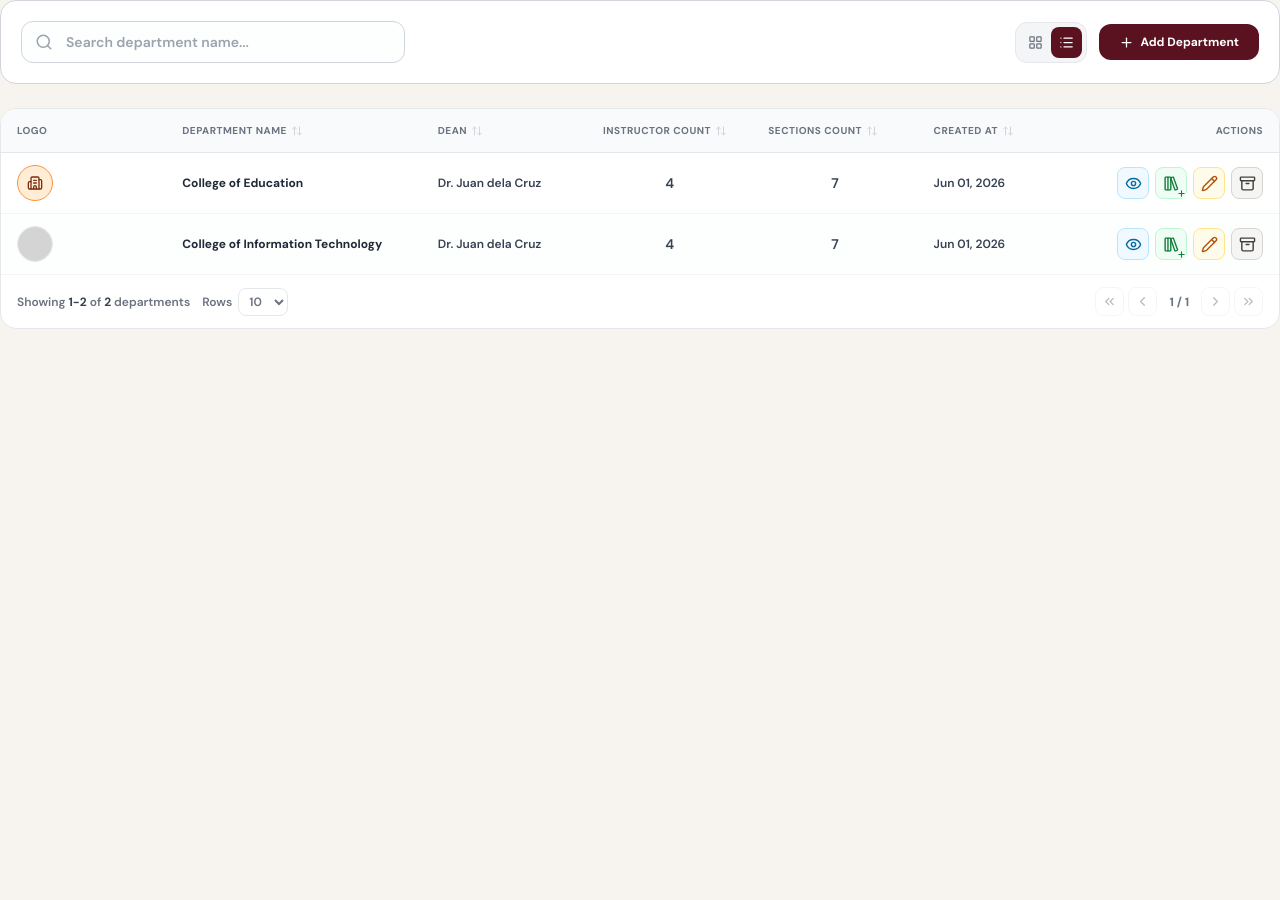
Test case: Departments management takes a typed department code › requires a code
Click the button "Add Department" at (1179,42), box [1099,24,1259,60]
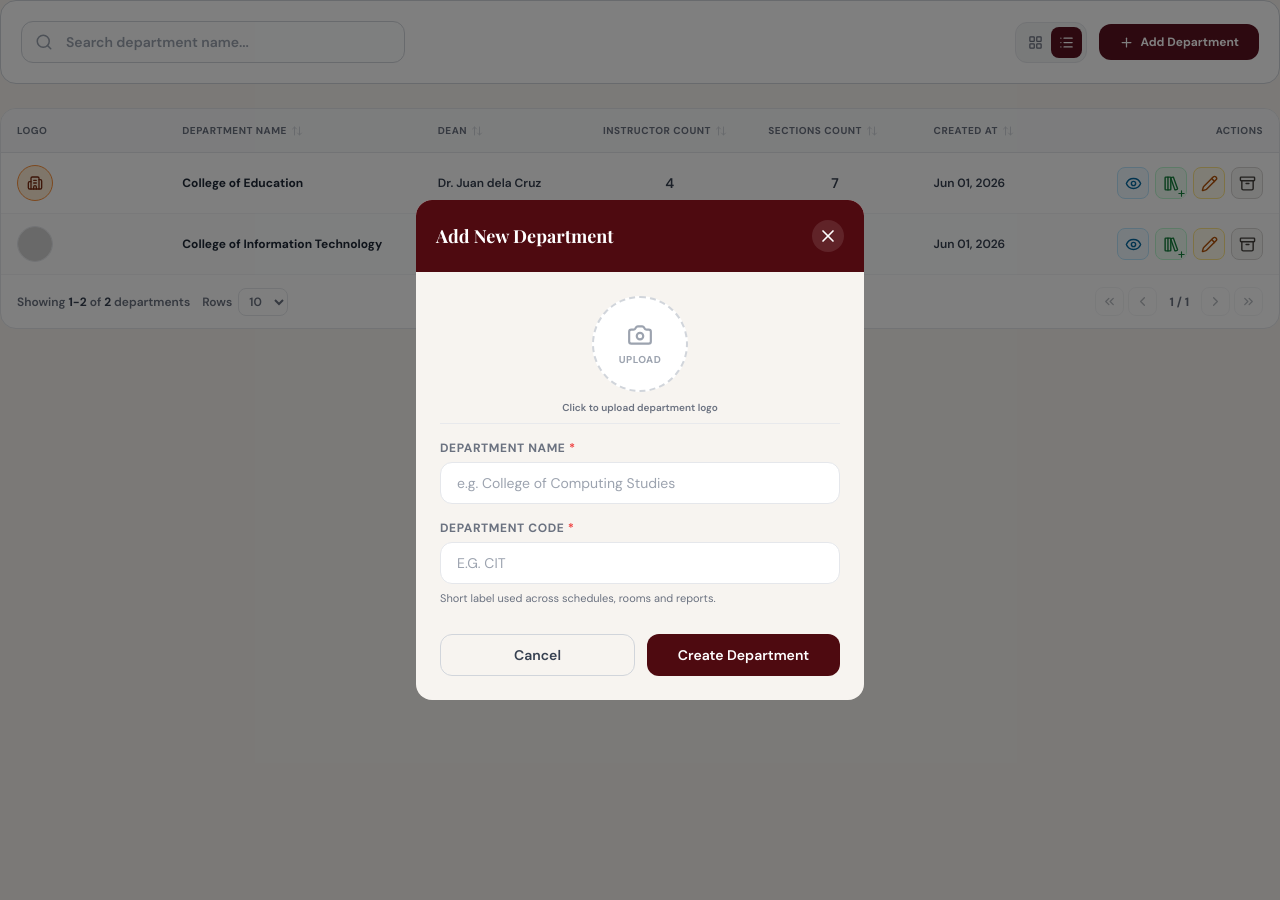
Type "College of Computing Studies" into the field with placeholder "e.g. College of Computing Studies" at (640,483), box [440,462,840,504]
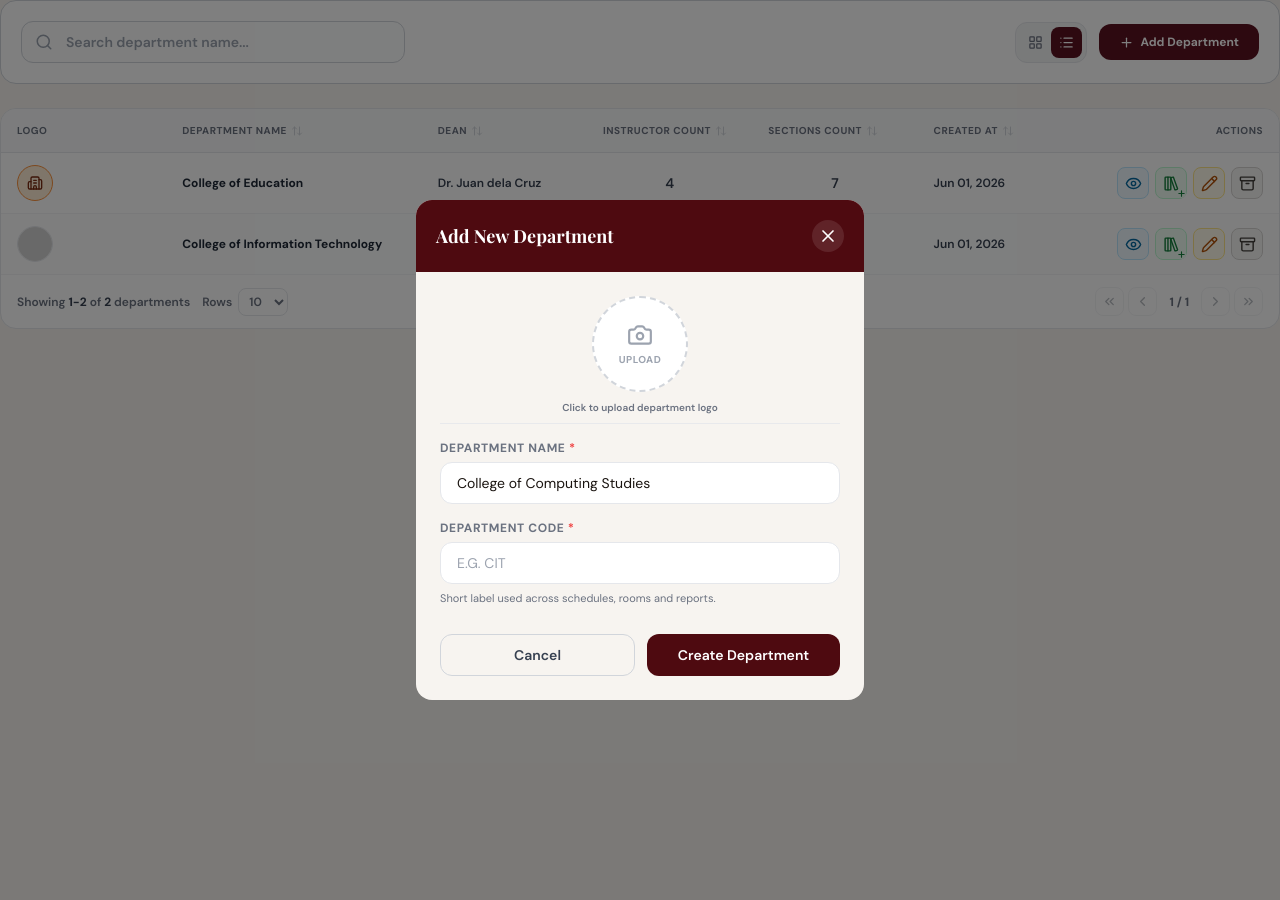
Click the button "Create Department" at (744,655), box [647,634,840,676]
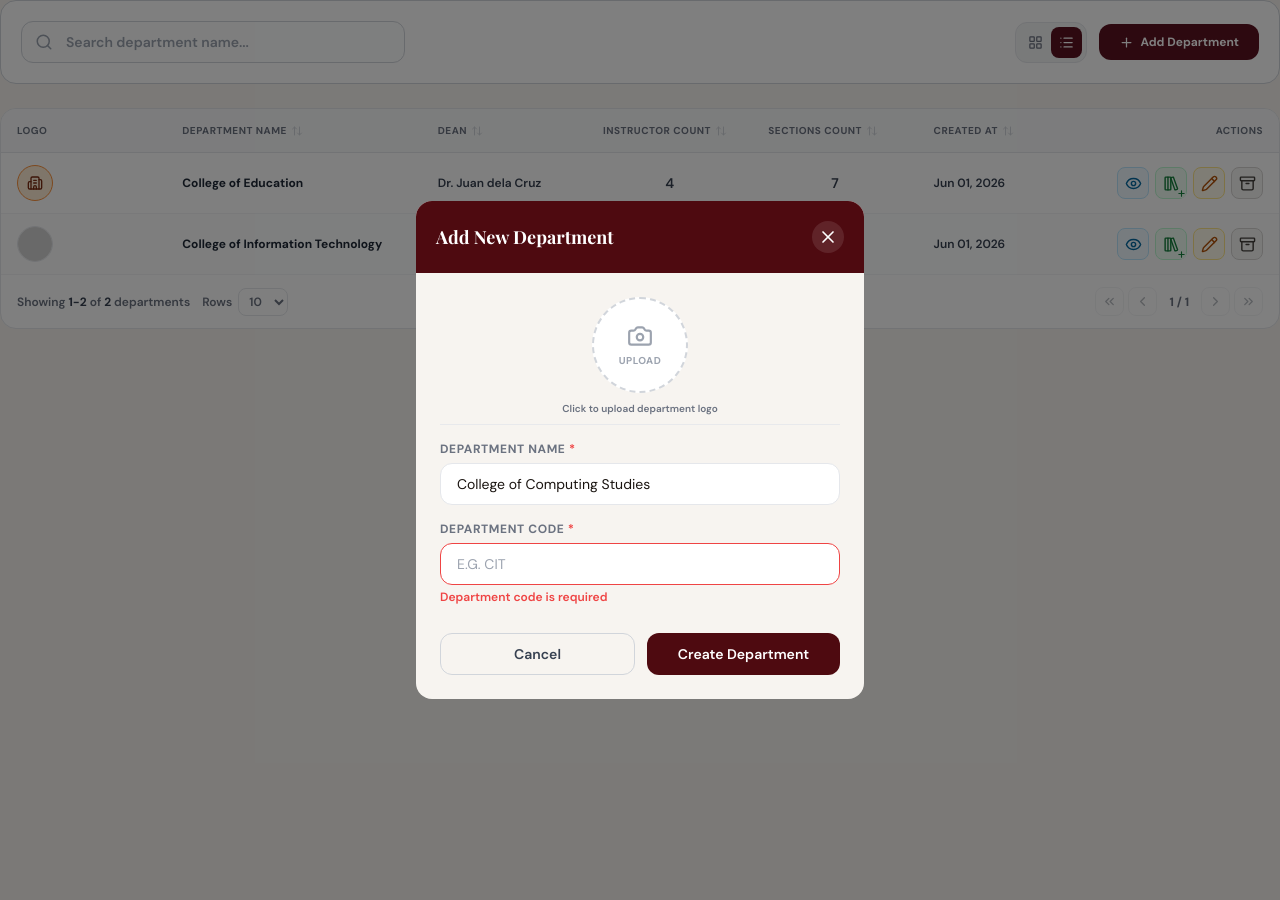
Now the text "Department code is required" is shown, box [440,589,607,605]
